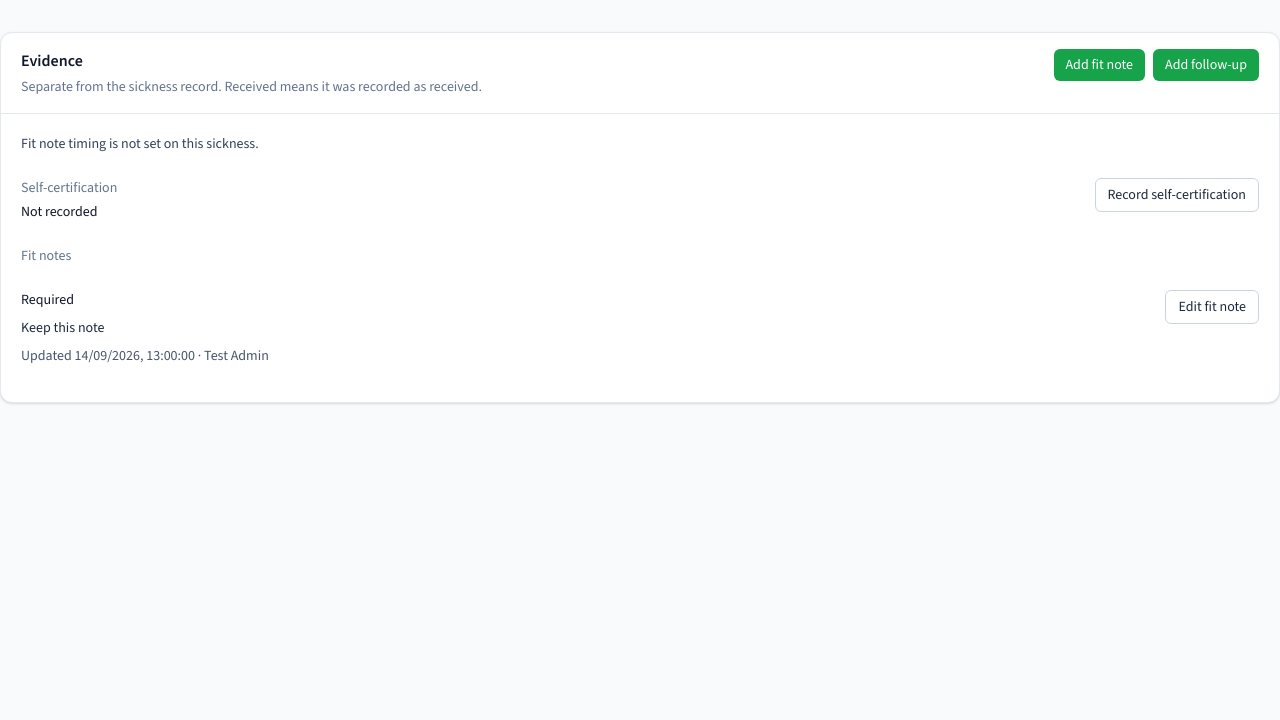
Test: sickness evidence section › requires a correction reason and keeps the note when edit validation fails
Expected: the text "Keep this note" is shown, 21,318 -> 104,337
Click the button "Edit fit note".
click(1212, 307)  # box 1166,290 -> 1259,324
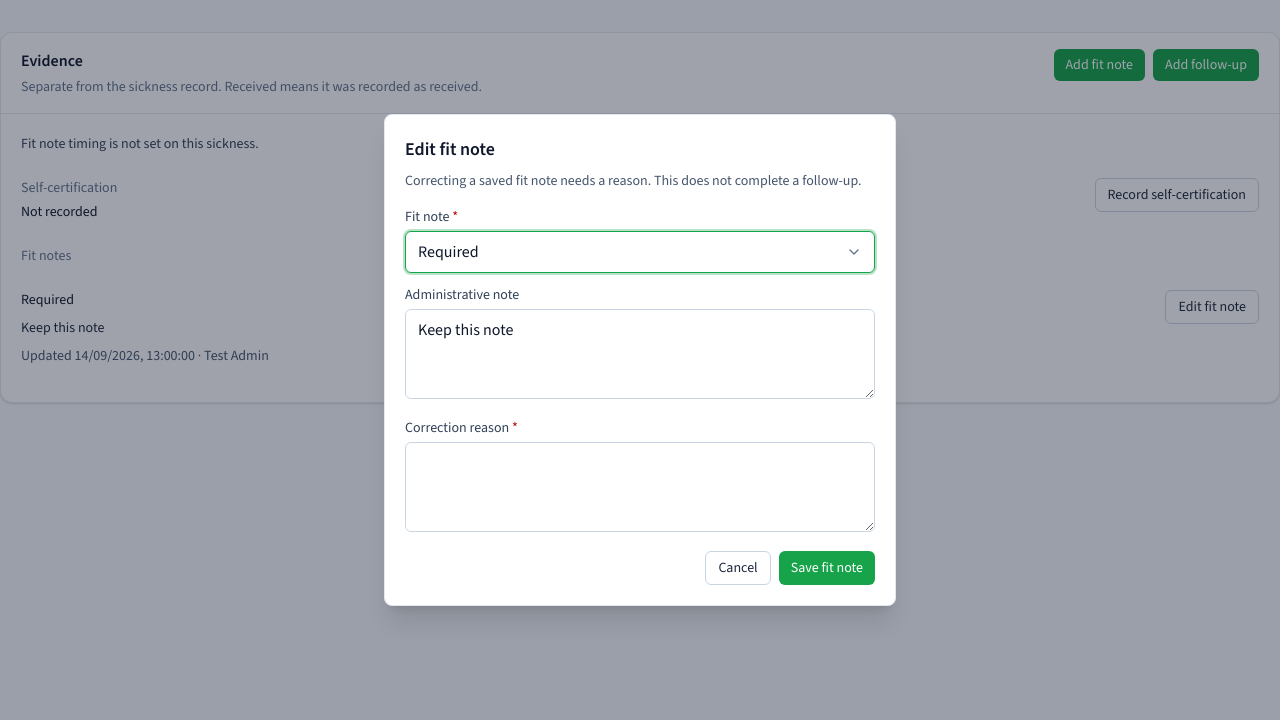
Type "x" into the text box labelled "Correction reason *".
click(640, 487); type("x")  # box 405,442 -> 875,532
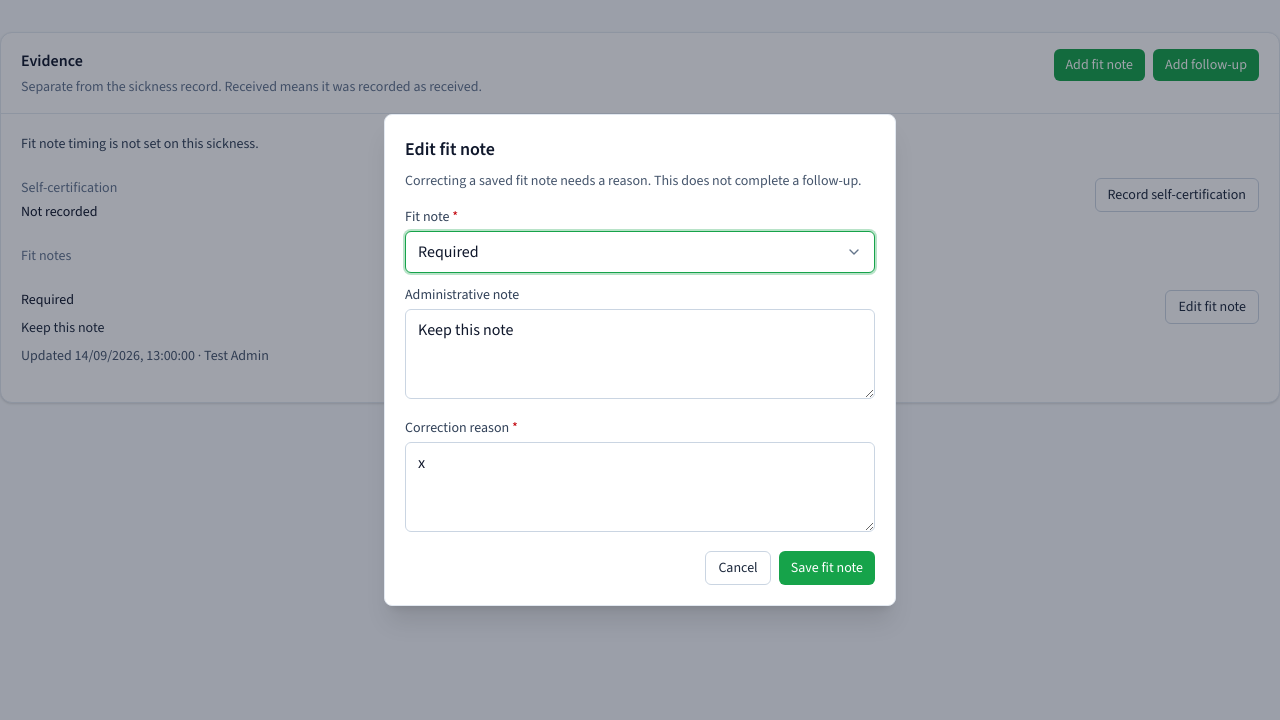
Click the button "Save fit note".
click(827, 568)  # box 779,551 -> 875,585
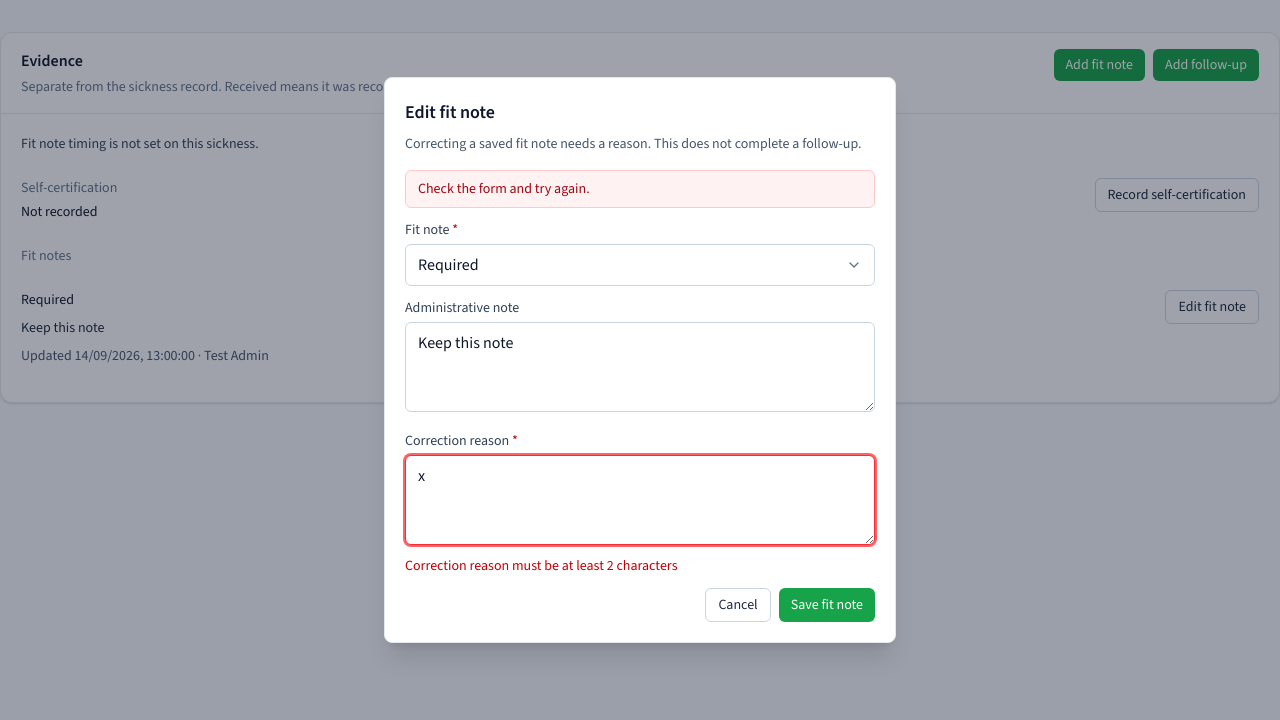
Now the text box labelled "Administrative note" holds "Keep this note", box 405,322 -> 875,412
Now the message reads "Check the form and try again.", box 418,179 -> 590,198
